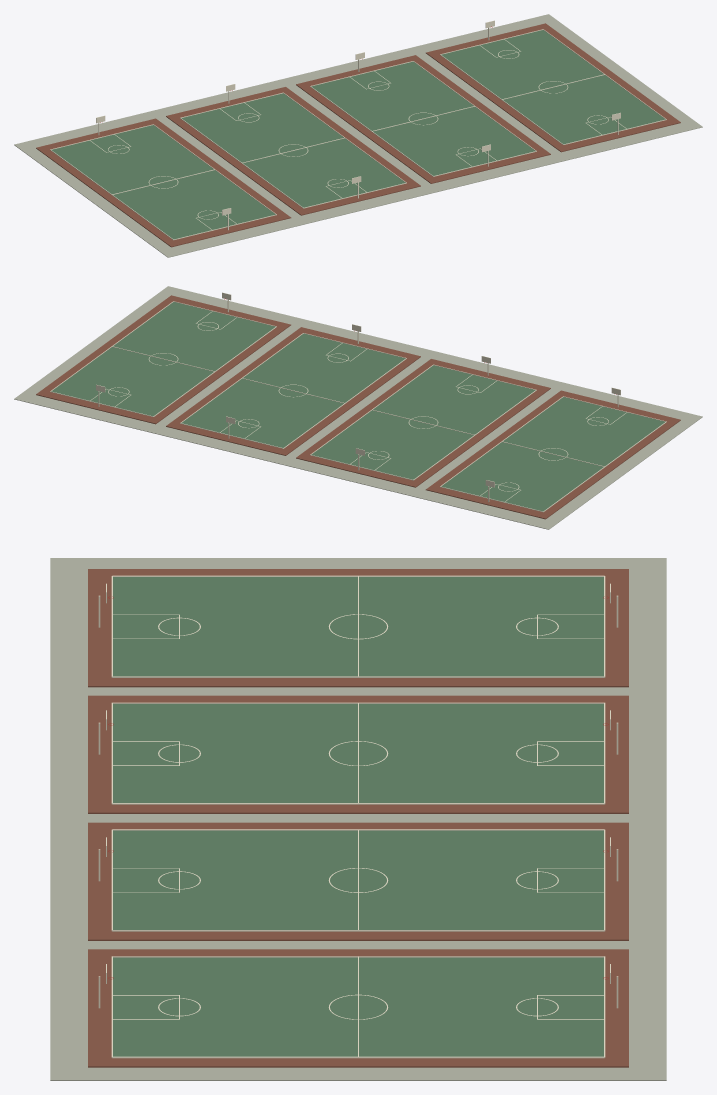
File: basket_C_middle.glb
The picture shows the model from 3 angles, top to bottom: view 1: azimuth 30°, elevation 25°; view 2: azimuth 150°, elevation 25°; view 3: azimuth 270°, elevation 25°; orthographic projection. The views are drawn at different scales.
Visible parts, largest first — view 1: PavedSurround, Court_4_CourtInfield, Court_3_CourtInfield, Court_1_CourtInfield, Court_2_CourtInfield, Court_4_CourtRed, Court_1_CourtRed, Court_2_CourtRed, Court_3_CourtRed, Court_2_CourtLines, Court_3_CourtLines, Court_4_CourtLines (+1 smaller); view 2: PavedSurround, Court_4_CourtInfield, Court_3_CourtInfield, Court_1_CourtInfield, Court_2_CourtInfield, Court_4_CourtRed, Court_1_CourtRed, Court_2_CourtRed, Court_3_CourtRed, Court_2_CourtLines, Court_3_CourtLines, Court_4_CourtLines (+1 smaller); view 3: PavedSurround, Court_3_CourtInfield, Court_4_CourtInfield, Court_1_CourtInfield, Court_2_CourtInfield, Court_2_CourtRed, Court_3_CourtRed, Court_4_CourtRed, Court_1_CourtRed, Court_4_CourtLines, Court_1_CourtLines, Court_3_CourtLines (+1 smaller).
Part boxes in pixels (x1,y1,x2,y2): PavedSurround: (14, 14, 702, 257); Court_4_CourtInfield: (441, 30, 665, 144); Court_3_CourtInfield: (311, 61, 535, 175); Court_1_CourtInfield: (52, 125, 275, 239); Court_2_CourtInfield: (181, 93, 405, 207); Court_4_CourtRed: (426, 23, 680, 152); Court_1_CourtRed: (36, 118, 291, 247); Court_2_CourtRed: (166, 87, 420, 215); Court_3_CourtRed: (296, 55, 550, 183); Court_2_CourtLines: (180, 92, 406, 208); Court_3_CourtLines: (310, 61, 536, 176); Court_4_CourtLines: (440, 29, 666, 144); PavedSurround: (14, 286, 702, 529); Court_4_CourtInfield: (51, 302, 275, 416); Court_3_CourtInfield: (181, 333, 405, 447); Court_1_CourtInfield: (441, 397, 664, 511); Court_2_CourtInfield: (311, 365, 535, 479); Court_4_CourtRed: (36, 295, 290, 424); Court_1_CourtRed: (425, 390, 680, 519); Court_2_CourtRed: (296, 359, 550, 487); Court_3_CourtRed: (166, 327, 420, 455); Court_2_CourtLines: (310, 364, 536, 480); Court_3_CourtLines: (180, 333, 406, 448); Court_4_CourtLines: (50, 301, 276, 416); PavedSurround: (50, 558, 666, 1080); Court_3_CourtInfield: (113, 830, 603, 929); Court_4_CourtInfield: (113, 957, 603, 1056); Court_1_CourtInfield: (113, 577, 603, 676); Court_2_CourtInfield: (113, 704, 603, 802); Court_2_CourtRed: (88, 695, 628, 813); Court_3_CourtRed: (88, 822, 628, 940); Court_4_CourtRed: (88, 949, 628, 1067); Court_1_CourtRed: (88, 569, 628, 687); Court_4_CourtLines: (111, 956, 605, 1058); Court_1_CourtLines: (111, 575, 605, 677); Court_3_CourtLines: (111, 829, 605, 931).
Size of the model in its own units: 107 by 3.97 by 53.16.
